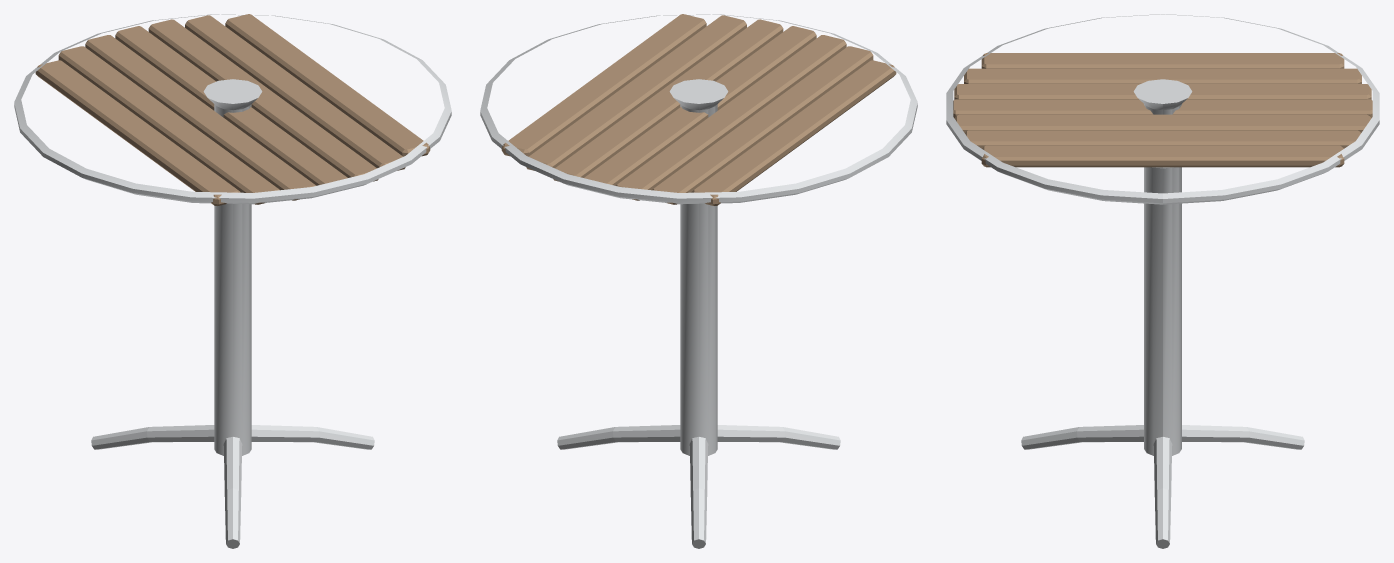
File: bistroTable.glb
3 renders of one model, left to right at view 1: azimuth 30°, elevation 25°; view 2: azimuth 150°, elevation 25°; view 3: azimuth 270°, elevation 25°, orthographic.
Visible parts, largest first — view 1: bistro-table-outdoor; view 2: bistro-table-outdoor; view 3: bistro-table-outdoor.
Boxes of the visible parts, box(x1,y1,x2,y2) form: bistro-table-outdoor: box(14, 14, 451, 548); bistro-table-outdoor: box(480, 14, 917, 548); bistro-table-outdoor: box(946, 14, 1379, 548).
Bounding box in the file's own units: 0.744 × 0.7332 × 0.7365.
